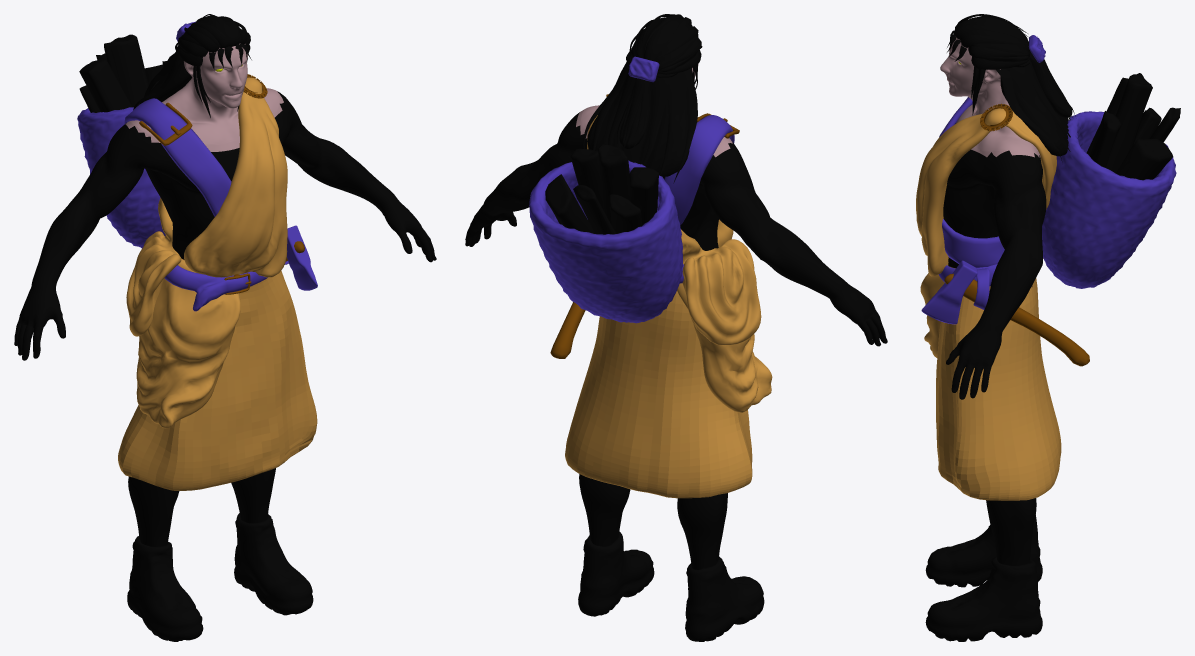
3 views of the same model, side by side, from view 1: azimuth 30°, elevation 25°; view 2: azimuth 150°, elevation 25°; view 3: azimuth 270°, elevation 25° (orthographic).
Parts seen in each view (by area): view 1: CharaHD_Kilt, CharaHD_Body1, CharaHD_buchesbasket, CharaHD_Cheveux; view 2: CharaHD_Kilt, CharaHD_Body1, CharaHD_buchesbasket, CharaHD_Cheveux; view 3: CharaHD_Kilt, CharaHD_Body1, CharaHD_buchesbasket, CharaHD_Cheveux.
Boxes of the visible parts, left/top/right/bottom form: CharaHD_Kilt: left=118, top=74, right=317, bottom=490; CharaHD_Body1: left=14, top=43, right=436, bottom=641; CharaHD_buchesbasket: left=77, top=34, right=166, bottom=248; CharaHD_Cheveux: left=133, top=14, right=251, bottom=117; CharaHD_Kilt: left=550, top=94, right=772, bottom=498; CharaHD_Body1: left=465, top=63, right=887, bottom=641; CharaHD_buchesbasket: left=529, top=144, right=683, bottom=323; CharaHD_Cheveux: left=582, top=14, right=702, bottom=183; CharaHD_Kilt: left=916, top=97, right=1089, bottom=500; CharaHD_Body1: left=925, top=37, right=1046, bottom=641; CharaHD_buchesbasket: left=1042, top=73, right=1180, bottom=288; CharaHD_Cheveux: left=947, top=14, right=1075, bottom=162.
Size of the model in its own units: 152 by 208 by 84.52.
